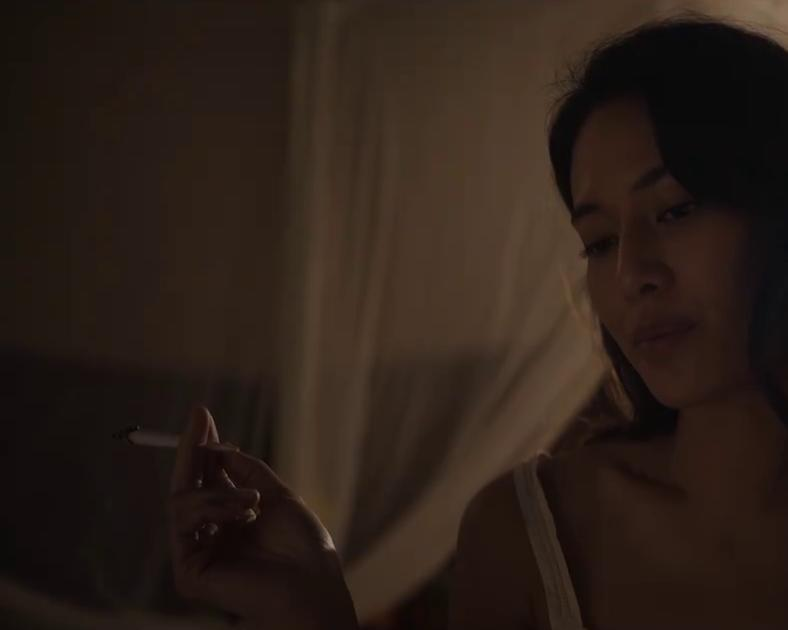cigarette: (111, 419, 242, 459)
